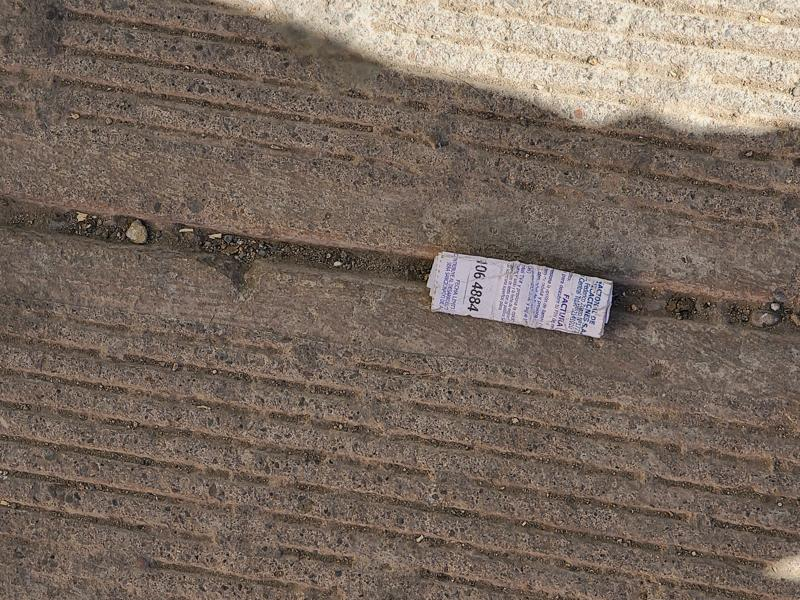papel: (427, 253, 615, 340)
